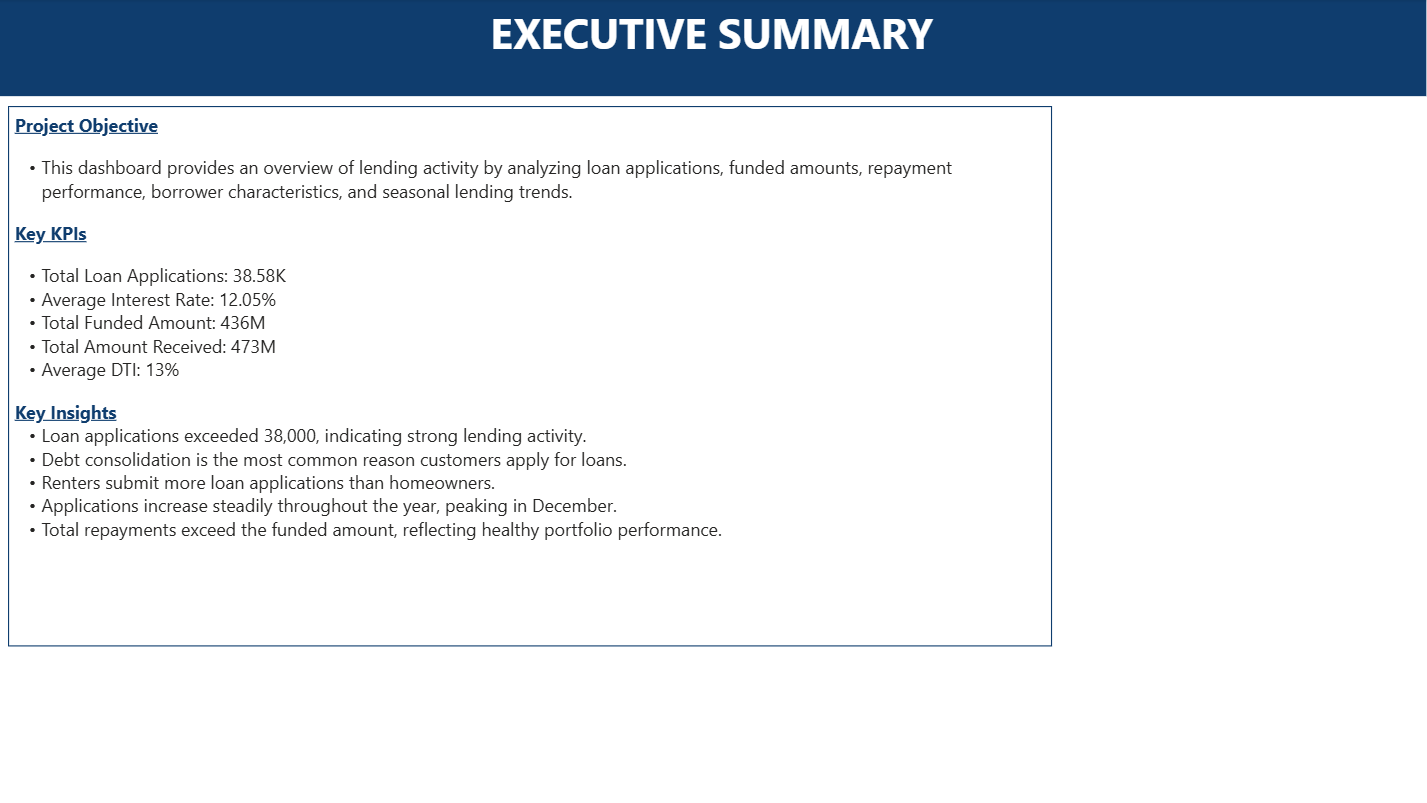

The page's visual inventory and layout, read from the dashboard file:
{"tool":"powerbi","page":{"name":"Executive Summary ","canvas":[1280,720],"ordinal":1},"visuals":[{"type":"textbox","box":[0,0,1279.7,86.9],"z":0},{"type":"textbox","box":[9.9,95.8,934.9,483.6],"z":1}]}

Visuals, with their boxes in screenshot pixels (x1, y1, x2, y2), scaled from the page's 1280x720 canvas onto the 1427x803 screenshot:
textbox: [0, 0, 1426, 97]
textbox: [11, 107, 1053, 646]
